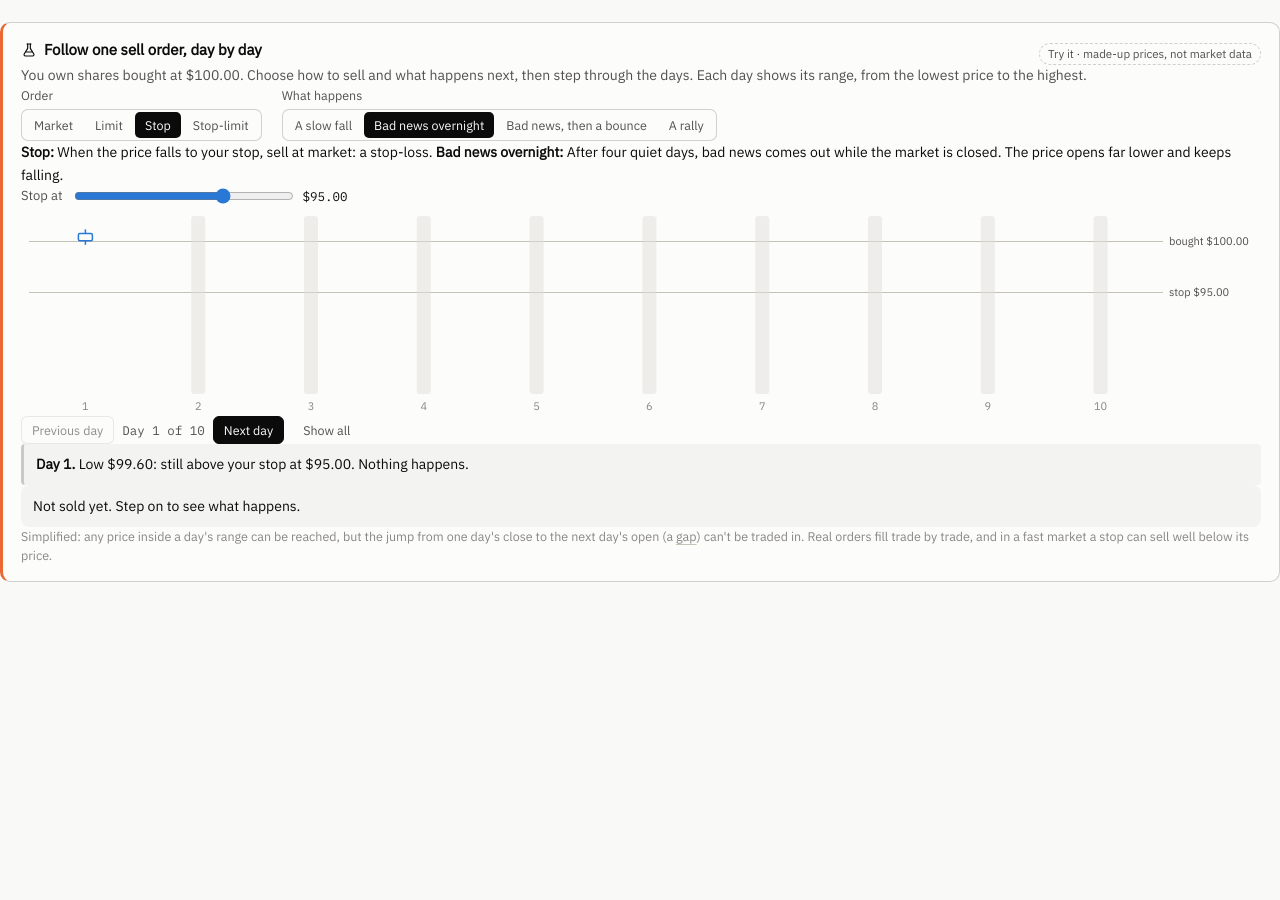
Test: following one sell order › steps through the days, and a stop sells below its price after a gap
Check: the text "Day 1 of 10" is shown, box left=122, top=421, right=205, bottom=440
Check: the text "Not sold yet. Step on to see what happens." is shown, box left=21, top=485, right=1261, bottom=527
Click the button "Next day".
click(248, 430)  # box left=213, top=416, right=284, bottom=444
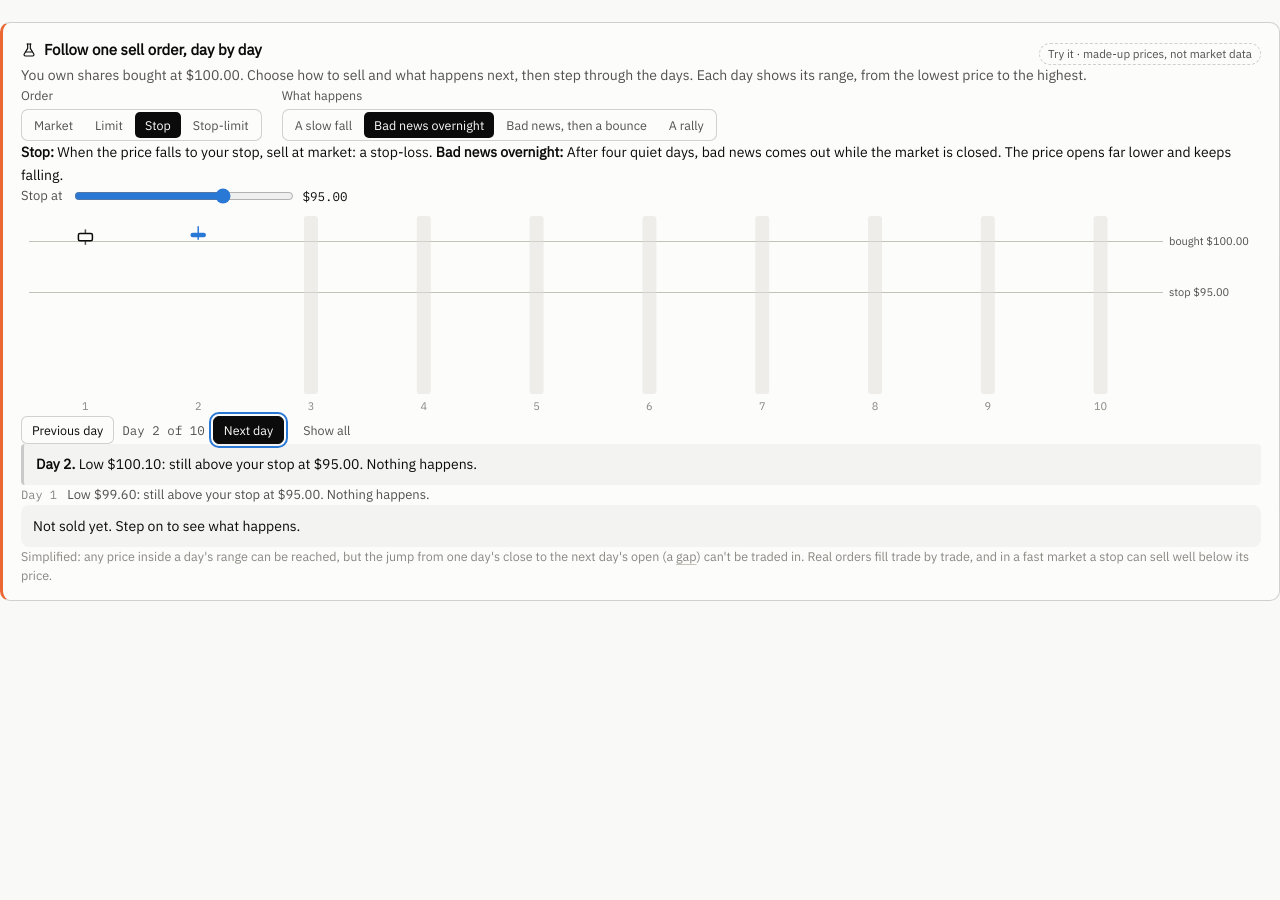
Check: the text "Day 2 of 10" is shown, box left=122, top=421, right=205, bottom=440
Click the button "Show all".
click(327, 430)  # box left=292, top=416, right=362, bottom=444
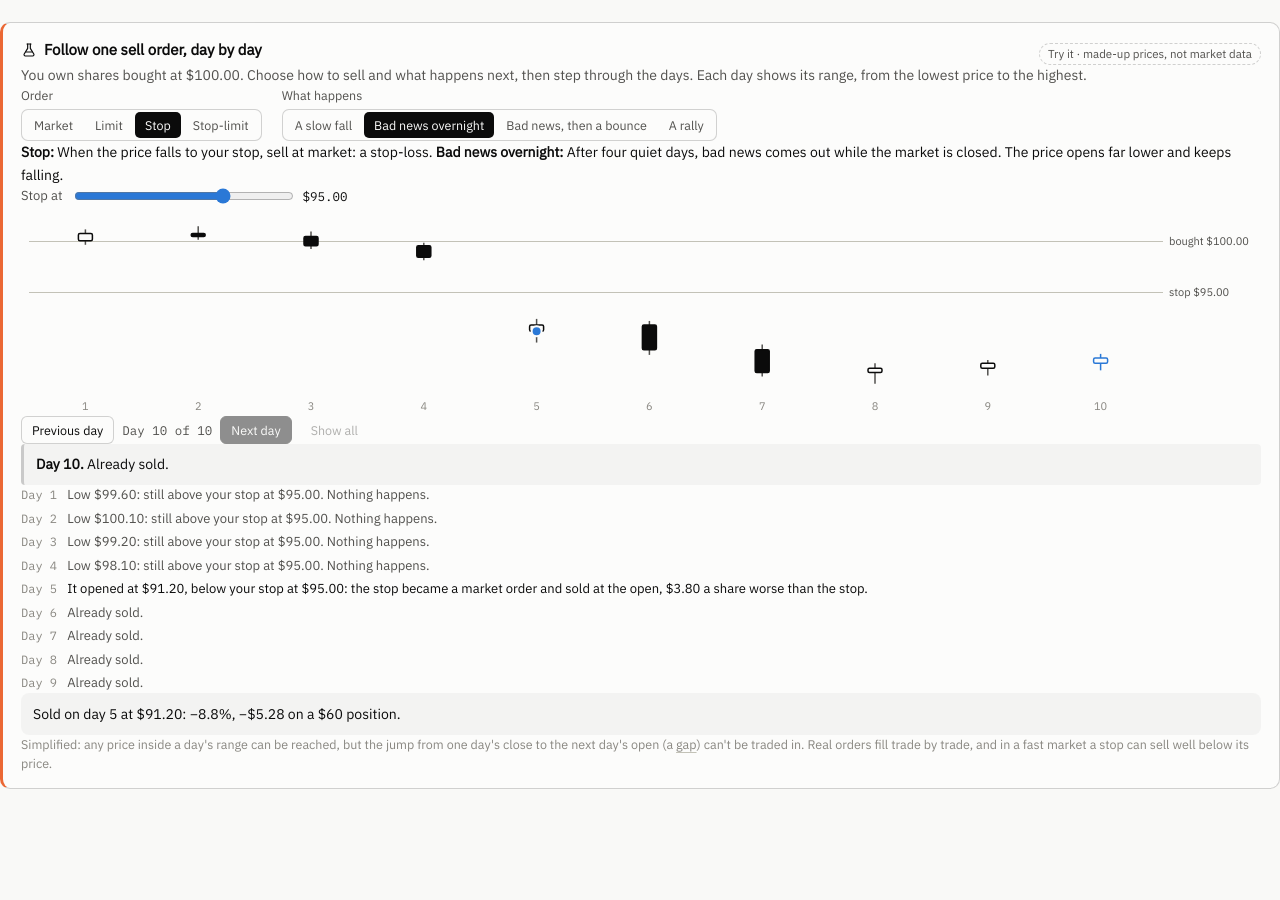
Check: the text "Sold on day 5 at $91.20: −8.8%, −$5.28 on a $60 position." is shown, box left=21, top=692, right=1261, bottom=735
Check: the list named "What happened each day" shows "$3.80 a share worse than the stop", box left=67, top=580, right=868, bottom=597
